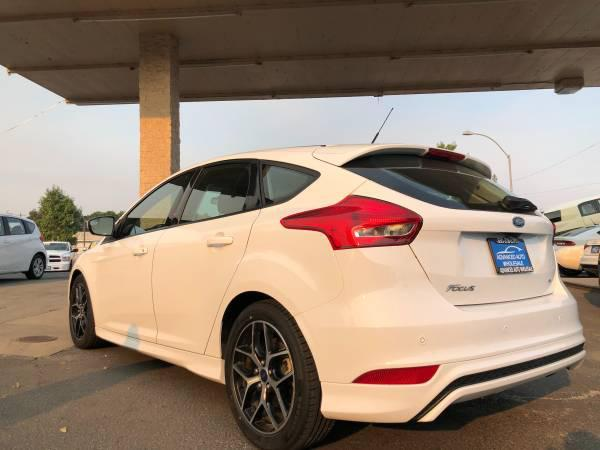Front_Left_Door: (85, 226, 167, 354)
Front_Left_Window: (99, 166, 193, 245)
Left_Headlight: (282, 193, 422, 248)
Rear_Bumper: (295, 245, 587, 419)
Rear_Fender: (233, 159, 340, 318)
Rear_Left_Door: (150, 210, 261, 380)
Rear_Left_Window: (170, 159, 262, 222)
Rear_Windshield: (345, 154, 537, 214)
Roof: (214, 144, 477, 212)
Tailgate: (353, 181, 564, 305)
Wheel: (222, 303, 322, 447), (68, 277, 94, 346)
